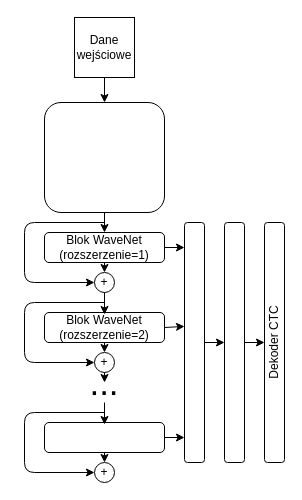
The diagram is 302 pixels wide and 500 high, and some of its shapes have lost their labels. The shapes that lost their labels are listed below. From the top down, each one's box as (x1, y1, x2, y2) in pixels, then its label:
(44, 102, 164, 212): DenseNet 30 warstw
(184, 222, 204, 462): Suma
(224, 222, 244, 462): Warstw gęsto połączona
(44, 422, 164, 452): Blok WaveNet (rozszerzenie=128)
